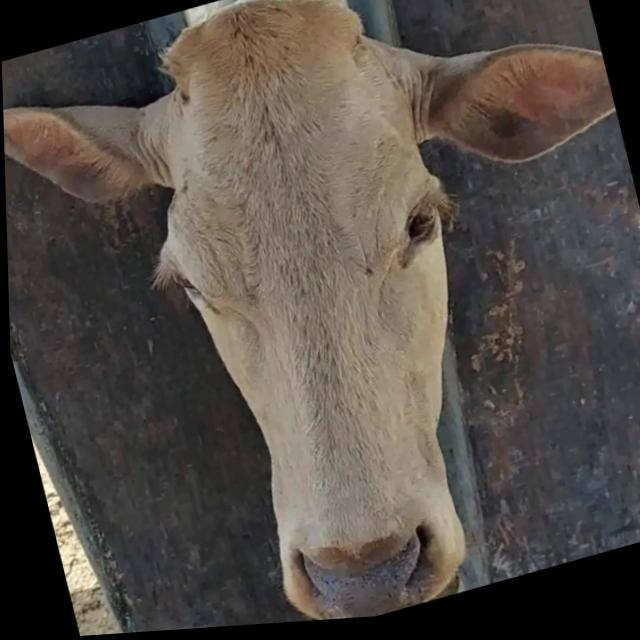cowFace: (112, 0, 531, 634)
